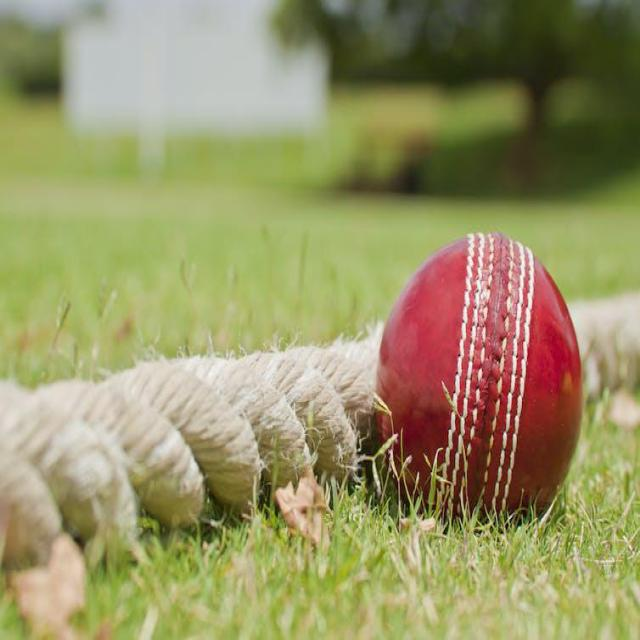ball: (378, 233, 584, 523)
